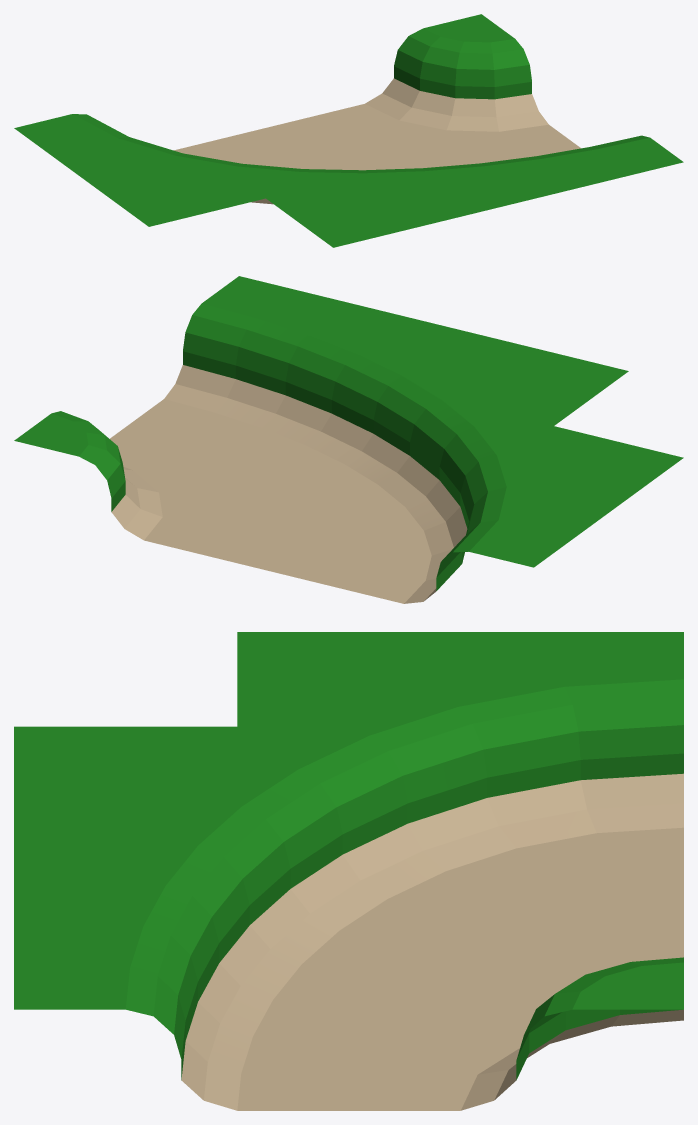
The model's file is Track_Standard_Curve_Widening_3x4.obj.
The picture shows the model from 3 angles, top to bottom: view 1: azimuth 30°, elevation 25°; view 2: azimuth 150°, elevation 25°; view 3: azimuth 270°, elevation 25°; orthographic projection. The views are drawn at different scales.
Visible parts, largest first — view 1: Grass, Dirt; view 2: Grass, Dirt; view 3: Grass, Dirt.
Part boxes in pixels (bbox=[...]): Grass: bbox=[14, 14, 683, 247]; Dirt: bbox=[174, 78, 580, 204]; Grass: bbox=[14, 276, 683, 590]; Dirt: bbox=[110, 365, 467, 603]; Grass: bbox=[14, 632, 683, 1080]; Dirt: bbox=[181, 773, 683, 1110].
Size of the model in its own units: 4 by 0.5 by 3.
